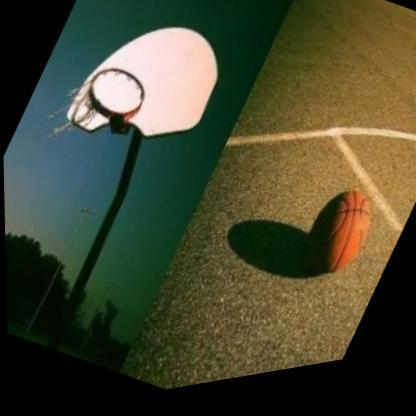basketball: (283, 174, 396, 310)
